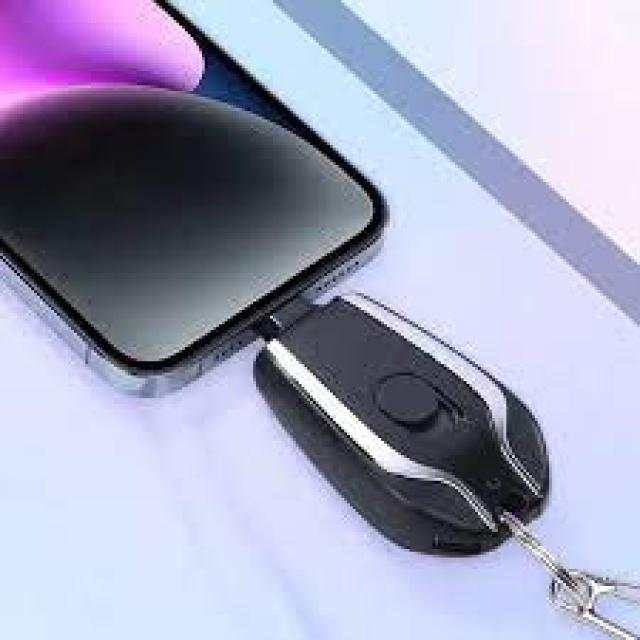portable-charger: (245, 274, 560, 562)
